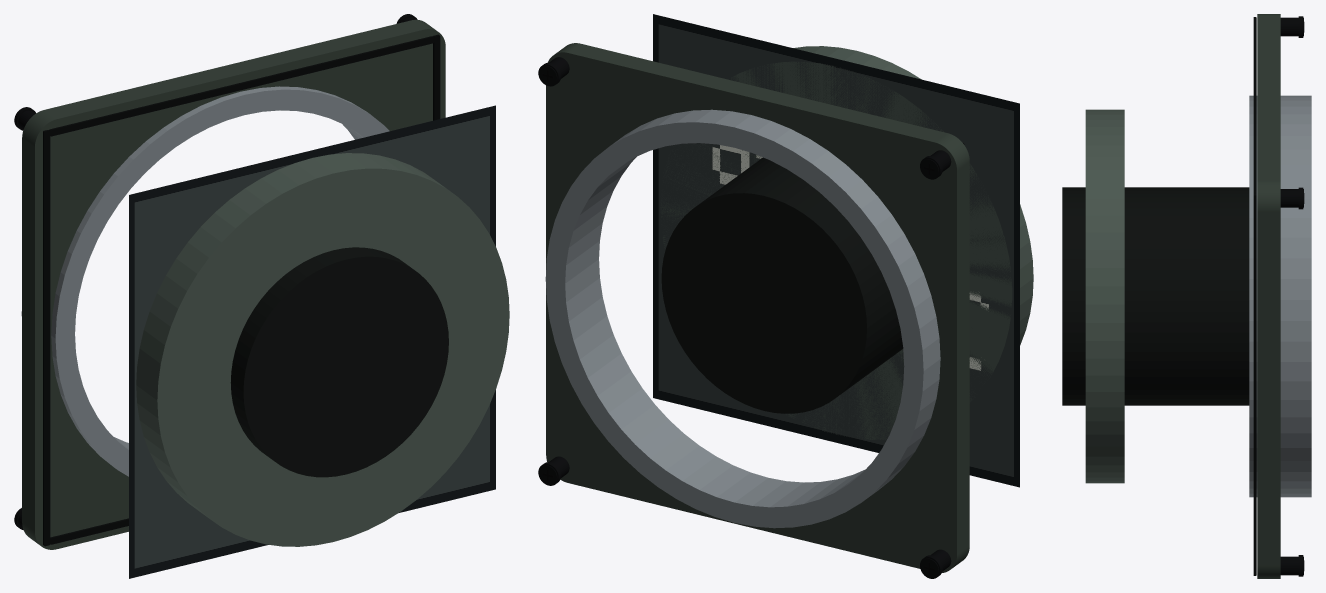
The model's file is MFDStudio.obj.
3 renders of one model, left to right at view 1: azimuth 30°, elevation 25°; view 2: azimuth 150°, elevation 25°; view 3: azimuth 270°, elevation 25°, orthographic. The views are drawn at different scales.
Visible parts, largest first — view 1: MFDStudioActuator, MFDStudioMount, MFDStudioBody, MFDStudioScreen; view 2: MFDStudioMount, MFDStudioBody, MFDStudioScreen, MFDStudioActuator, MFDStudioScrews; view 3: MFDStudioMount, MFDStudioBody, MFDStudioActuator, MFDStudioScrews.
Part boxes in pixels (<box>): MFDStudioActuator: <box>136,153,509,546</box>; MFDStudioMount: <box>21,86,448,477</box>; MFDStudioBody: <box>22,19,445,549</box>; MFDStudioScreen: <box>129,105,495,578</box>; MFDStudioMount: <box>545,109,940,528</box>; MFDStudioBody: <box>546,43,969,572</box>; MFDStudioScreen: <box>653,14,1019,487</box>; MFDStudioActuator: <box>660,46,1033,439</box>; MFDStudioScrews: <box>538,57,951,578</box>; MFDStudioMount: <box>1062,95,1311,497</box>; MFDStudioBody: <box>1253,14,1280,578</box>; MFDStudioActuator: <box>1085,109,1124,483</box>; MFDStudioScrews: <box>1280,16,1304,576</box>.
Size of the model in its own units: 0.056 by 0.056 by 0.032.
8 materials, 1 textured.
